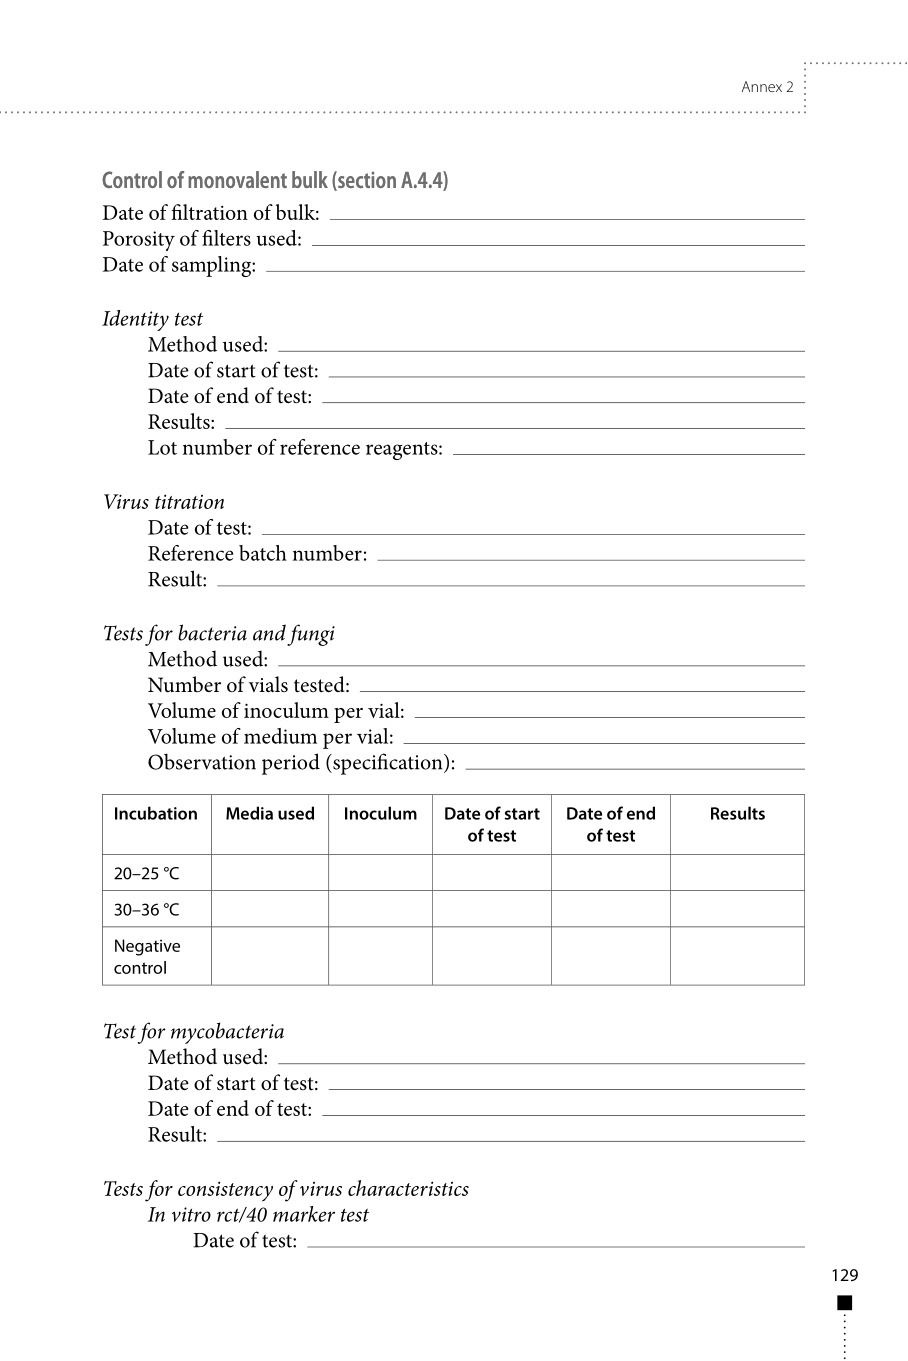full_lined: (101, 792, 806, 986)
